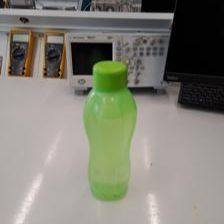bottle: (80, 59, 140, 203)
